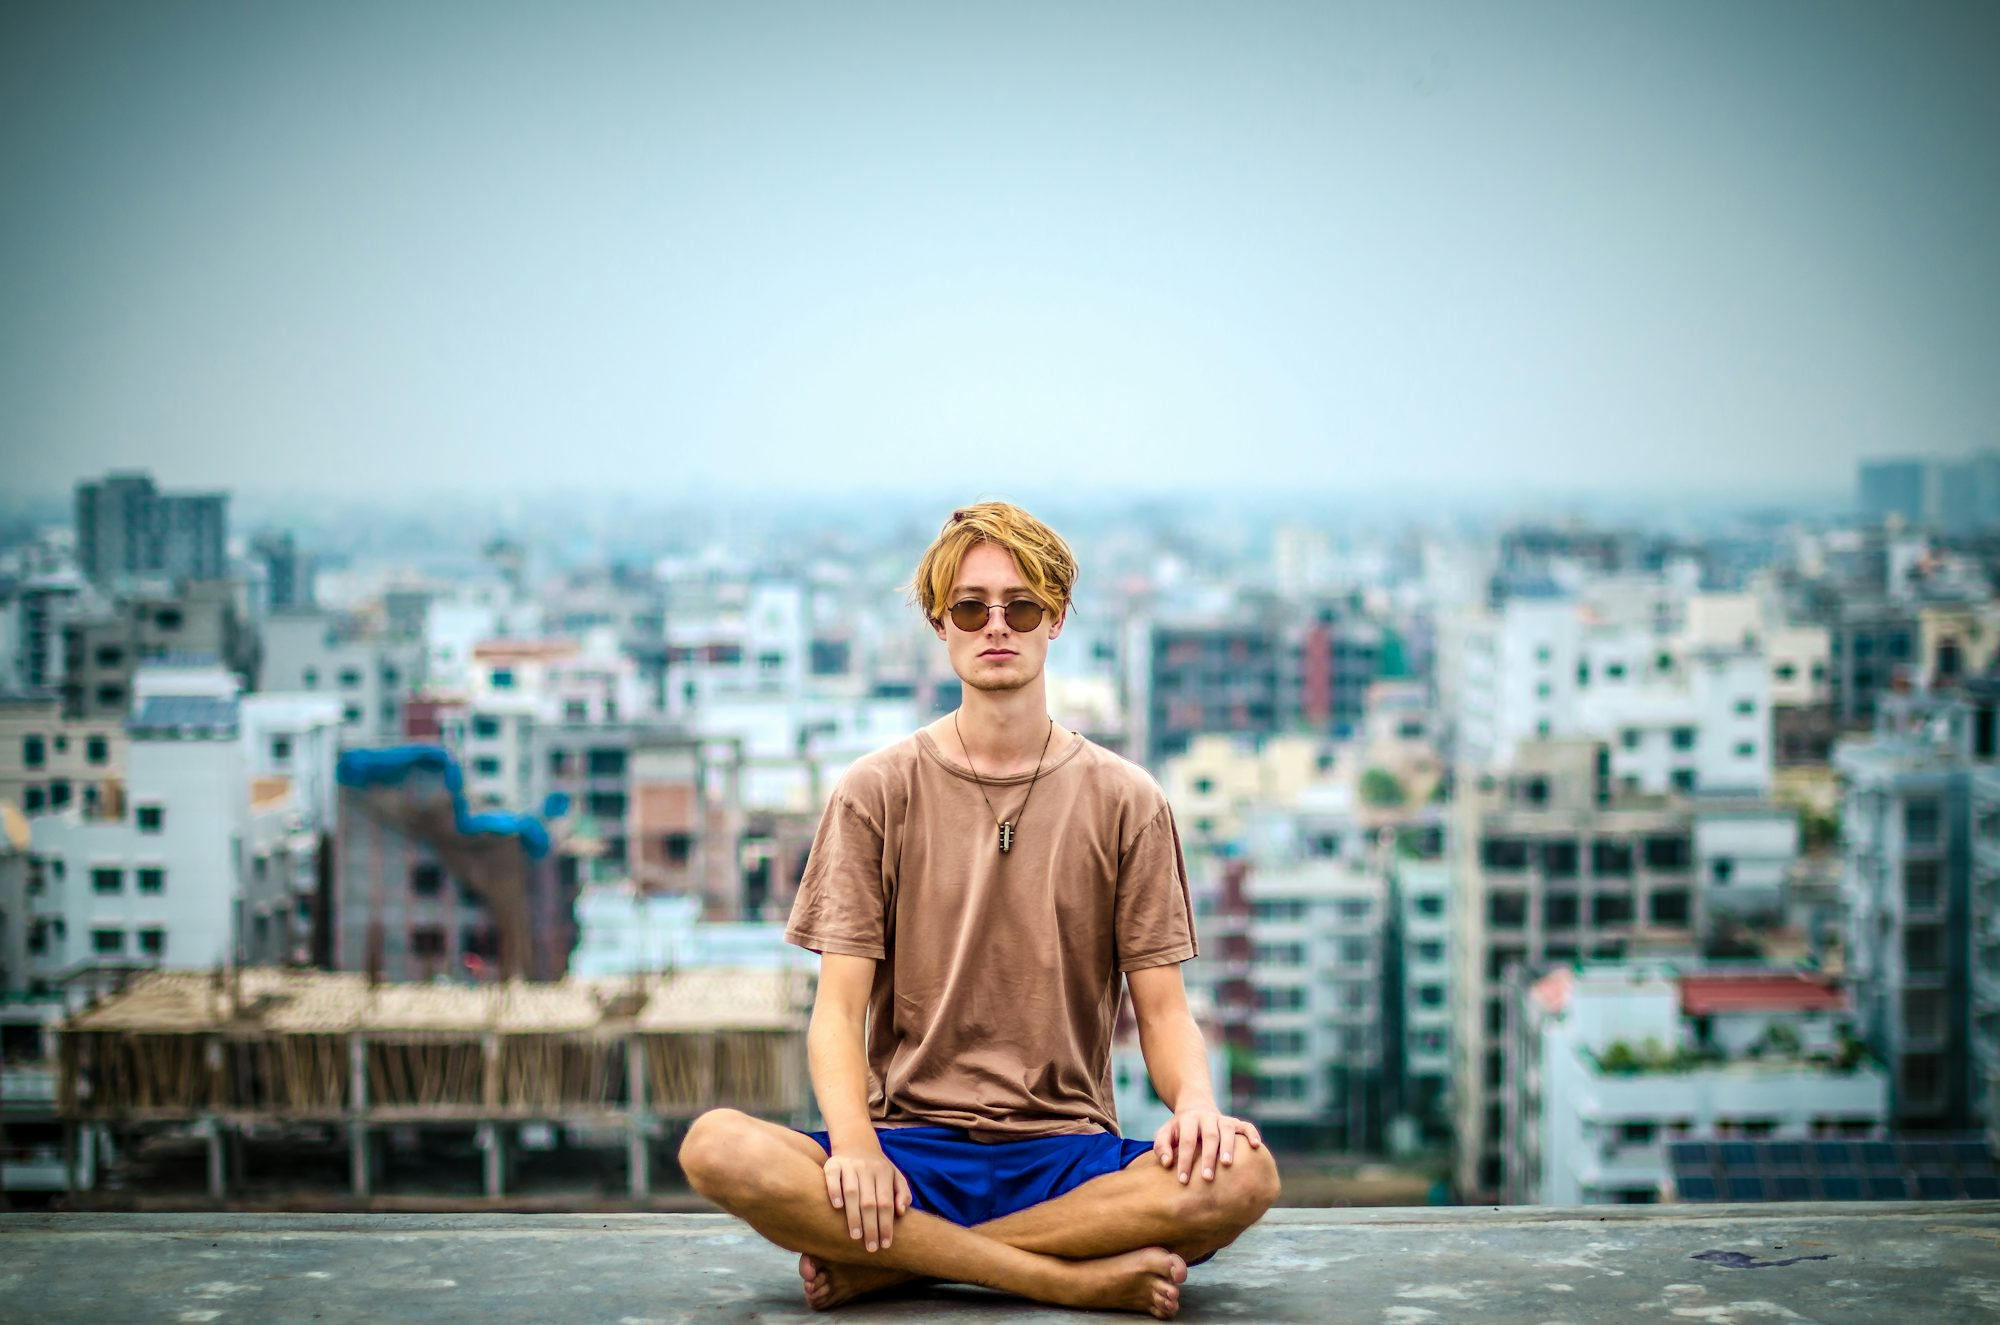person: (661, 491, 1335, 1322)
